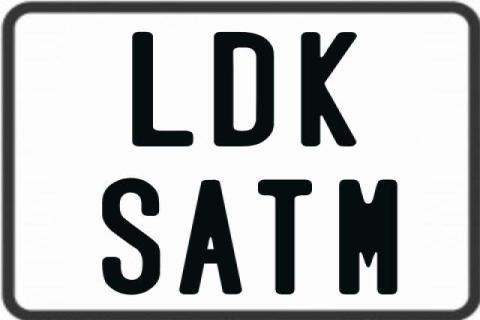A: (176, 177, 240, 297)
D: (214, 32, 280, 149)
K: (301, 30, 360, 150)
L: (130, 32, 191, 148)
M: (337, 179, 398, 295)
S: (102, 177, 164, 295)
T: (256, 177, 310, 297)
